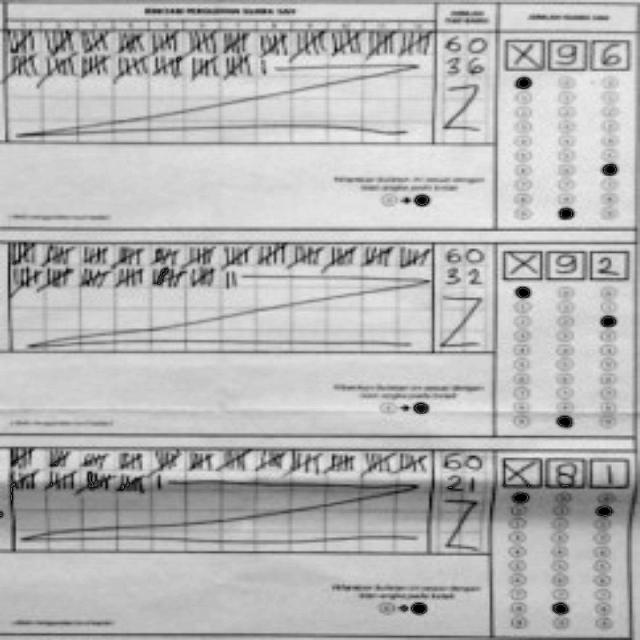Suara: (499, 34, 632, 72), (498, 454, 632, 491), (500, 244, 630, 282)
